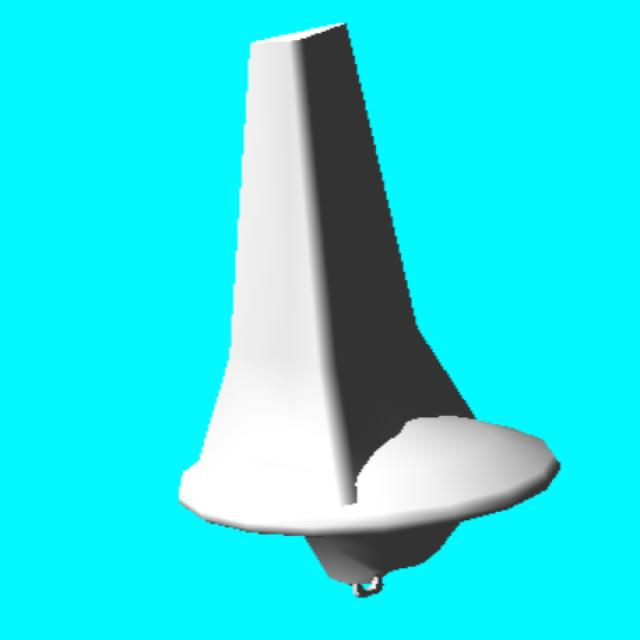WhiteBuoy: (179, 25, 559, 591)
